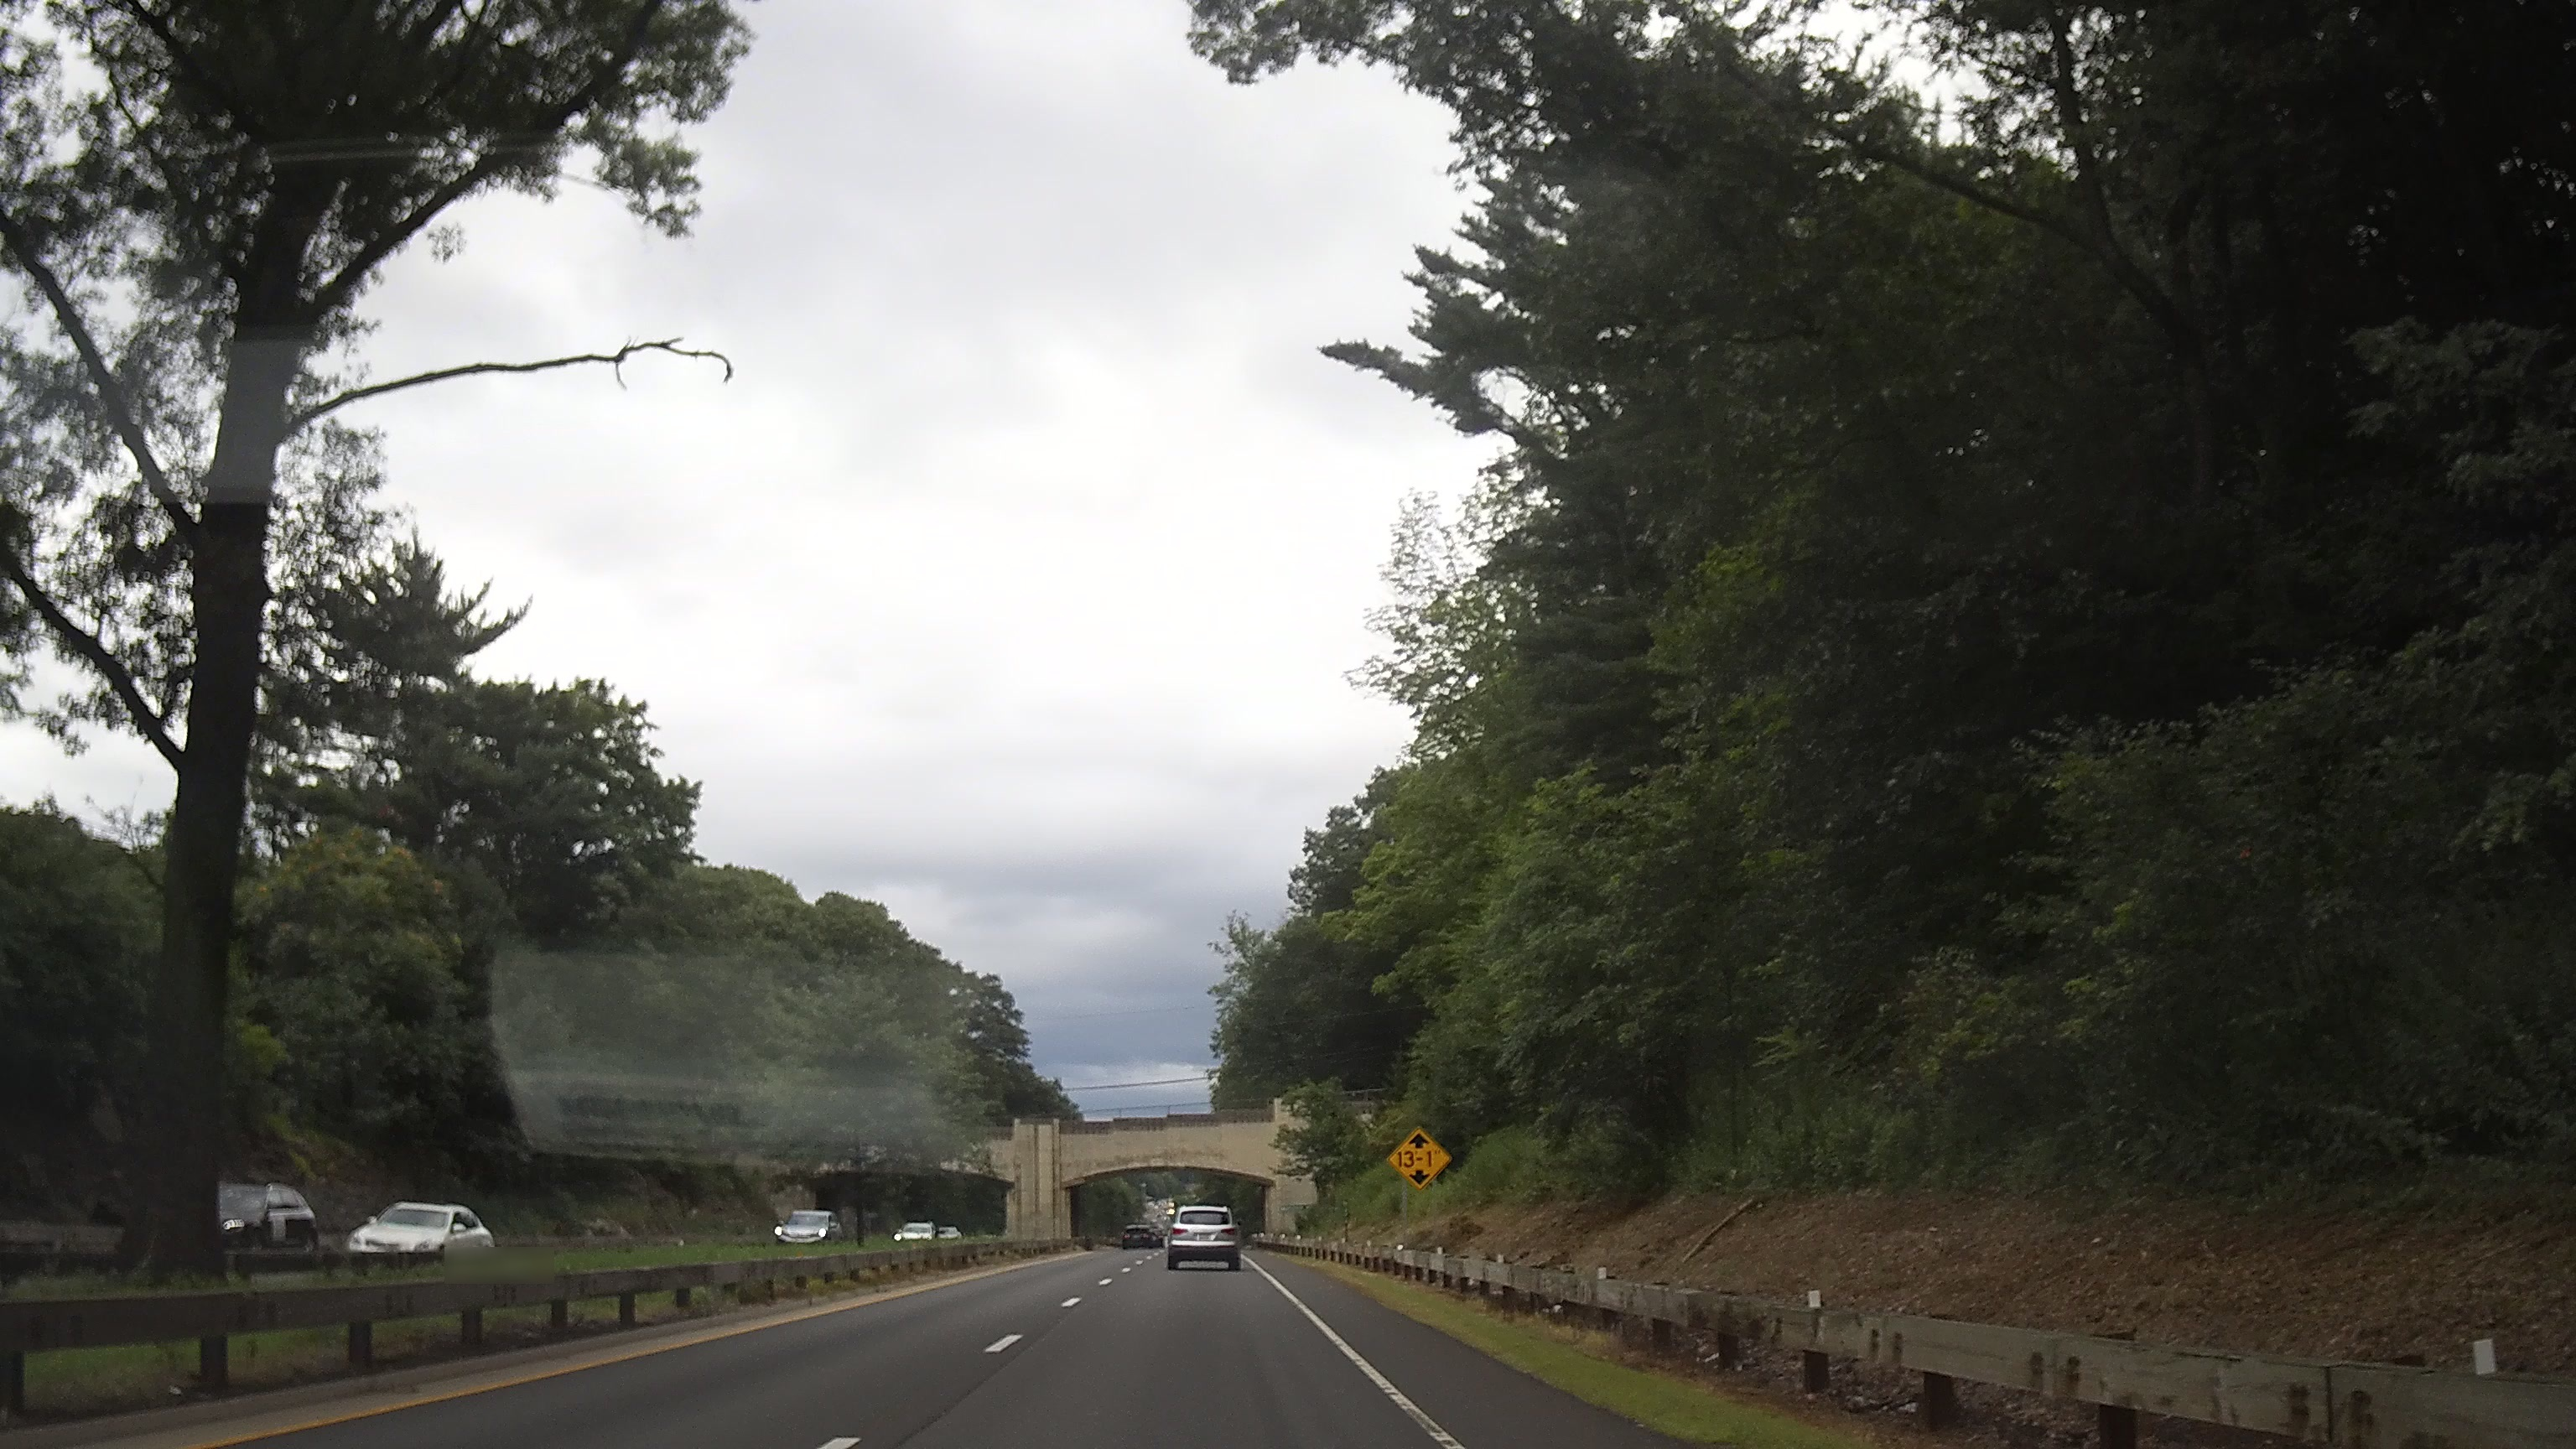low-clearance-sign: (1385, 1125, 1453, 1191)
